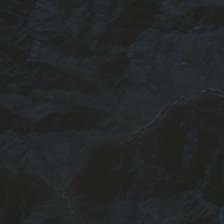landslides: (9, 178, 14, 202)
